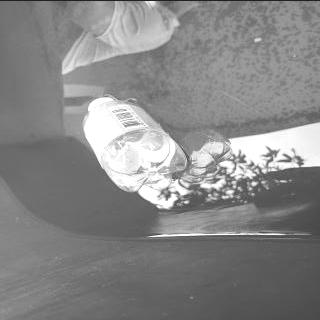bottle: (78, 95, 190, 195)
